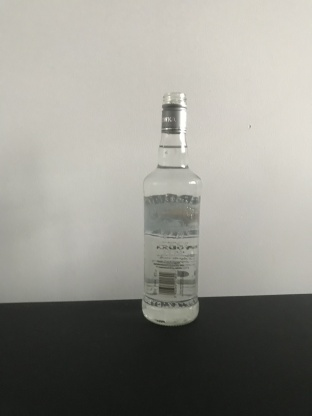nakretka: (159, 91, 189, 135)
